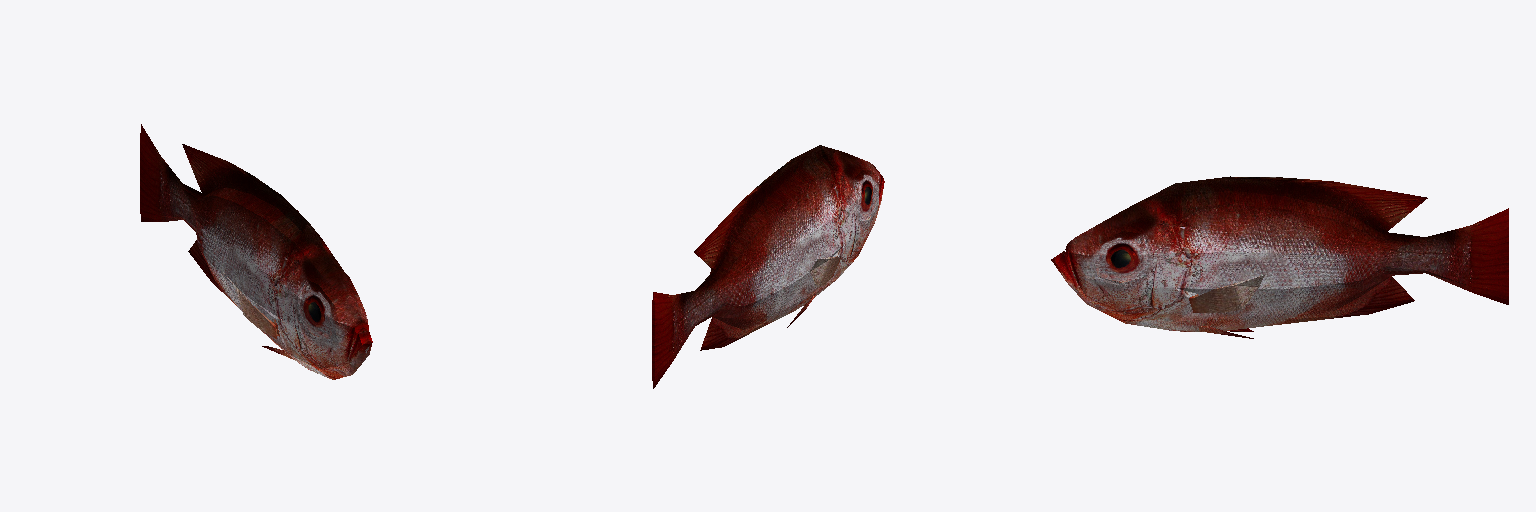
3 views of the same model, side by side, from view 1: azimuth 30°, elevation 25°; view 2: azimuth 150°, elevation 25°; view 3: azimuth 270°, elevation 25° (orthographic).
Visible parts, largest first — view 1: fishV1_Sphere; view 2: fishV1_Sphere; view 3: fishV1_Sphere.
Boxes of the visible parts, x1=… form: fishV1_Sphere: x1=140, y1=124, x2=372, y2=379; fishV1_Sphere: x1=652, y1=145, x2=884, y2=388; fishV1_Sphere: x1=1051, y1=176, x2=1508, y2=338.
Size of the model in its own units: 1.78 by 3.21 by 8.39.
1 materials, 1 textured.